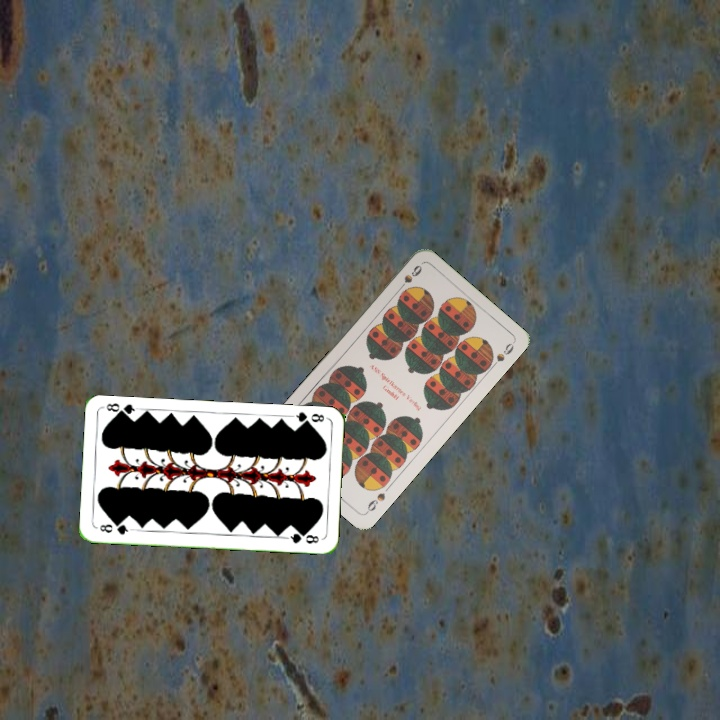G8: (288, 408, 329, 428), (96, 520, 134, 537)
S9: (393, 261, 425, 294), (362, 489, 388, 516)
